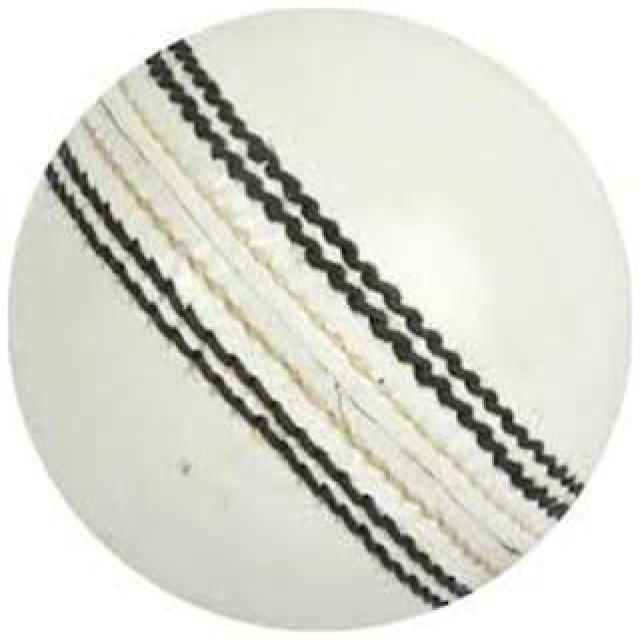ball: (14, 10, 628, 628)
